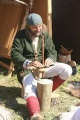male: (23, 16, 46, 44)
